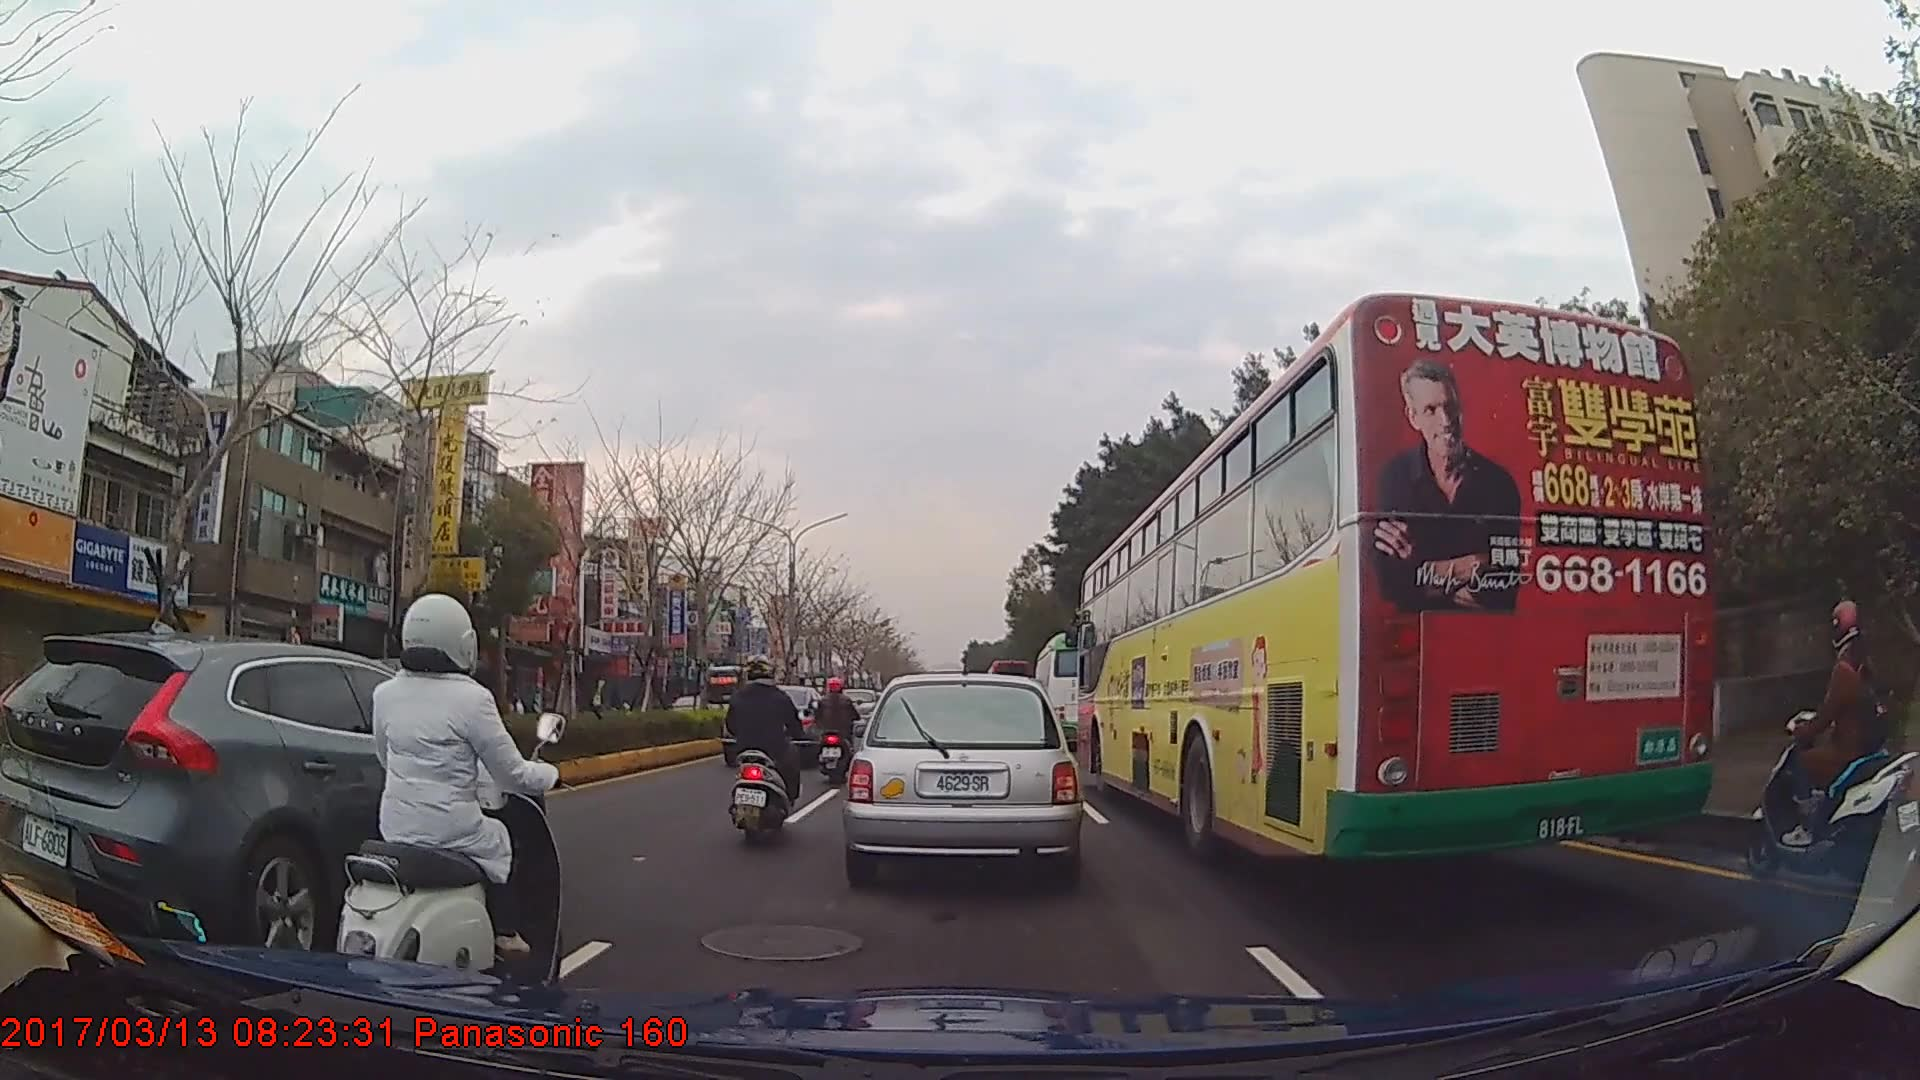rider: (323, 585, 570, 998), (1732, 599, 1916, 882), (723, 655, 805, 846), (813, 678, 860, 785)
vehicle: (1076, 287, 1717, 867), (0, 634, 553, 958), (844, 671, 1083, 883), (1031, 630, 1119, 749), (717, 685, 823, 768), (699, 663, 765, 729)
